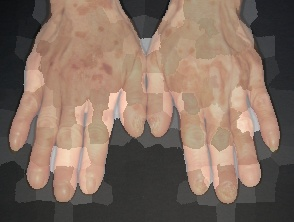vitiligo: (0, 0, 169, 219), (146, 0, 281, 209)
